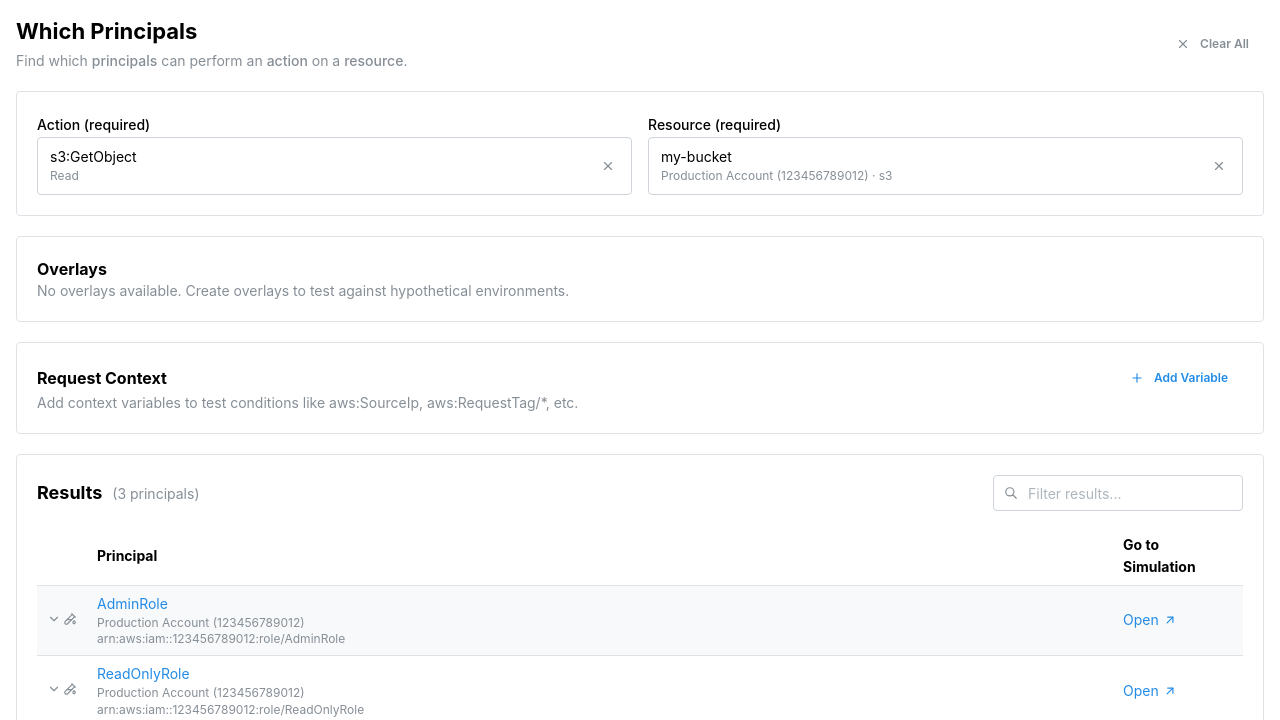
WhichPrincipalsPage › filters results when using search input
Expected: the heading "Results(3 principals)" is shown, [37,480,200,506]
Expected: the text "(3 principals)" is shown, [112,485,200,502]
Type "Admin" into the field with placeholder "Filter results...". click: (1118, 494)
box: [993,476,1243,512]
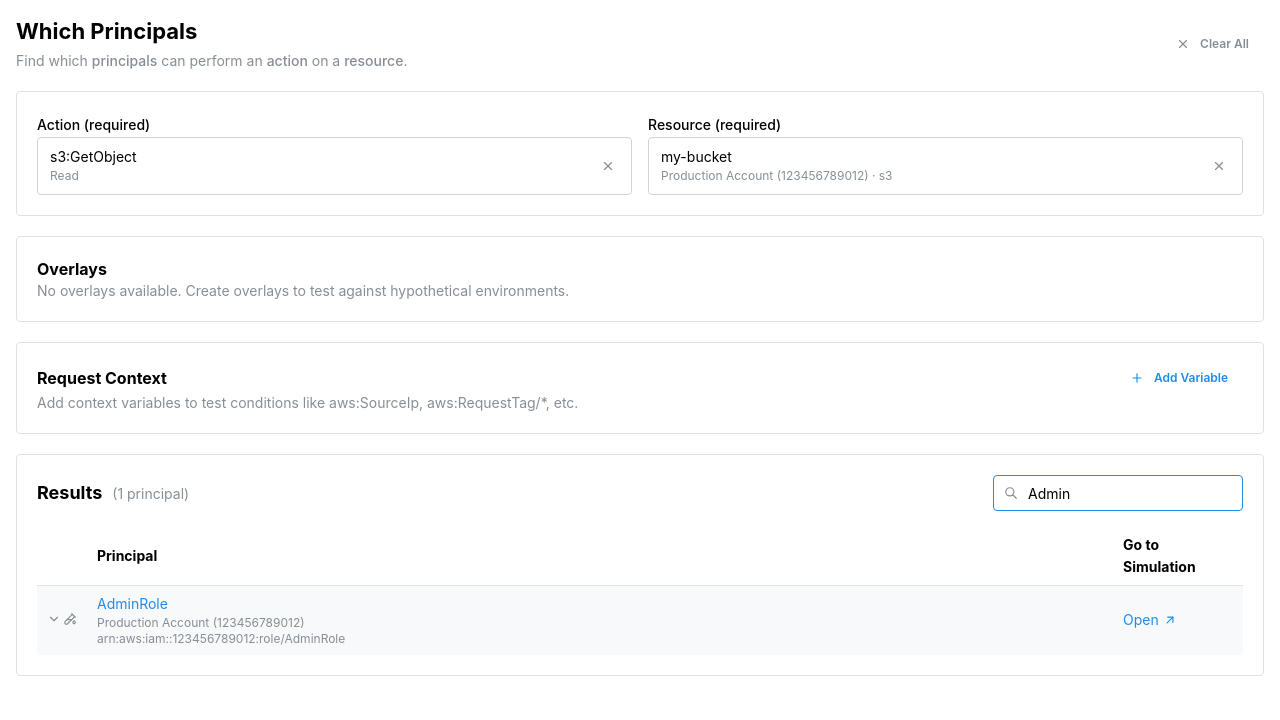
Expected: the link "AdminRole" is shown, [97,595,168,612]
Result: the text "(1 principal)" is shown at [112,485,189,502]
Result: the link "ReadOnlyRole" is gone
